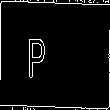P_N: (45, 29, 65, 81)
